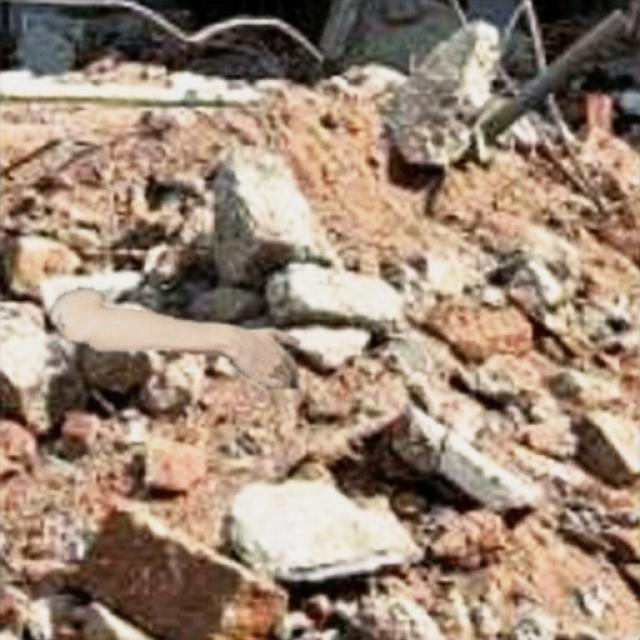Person in Rubble: (50, 288, 299, 388)
